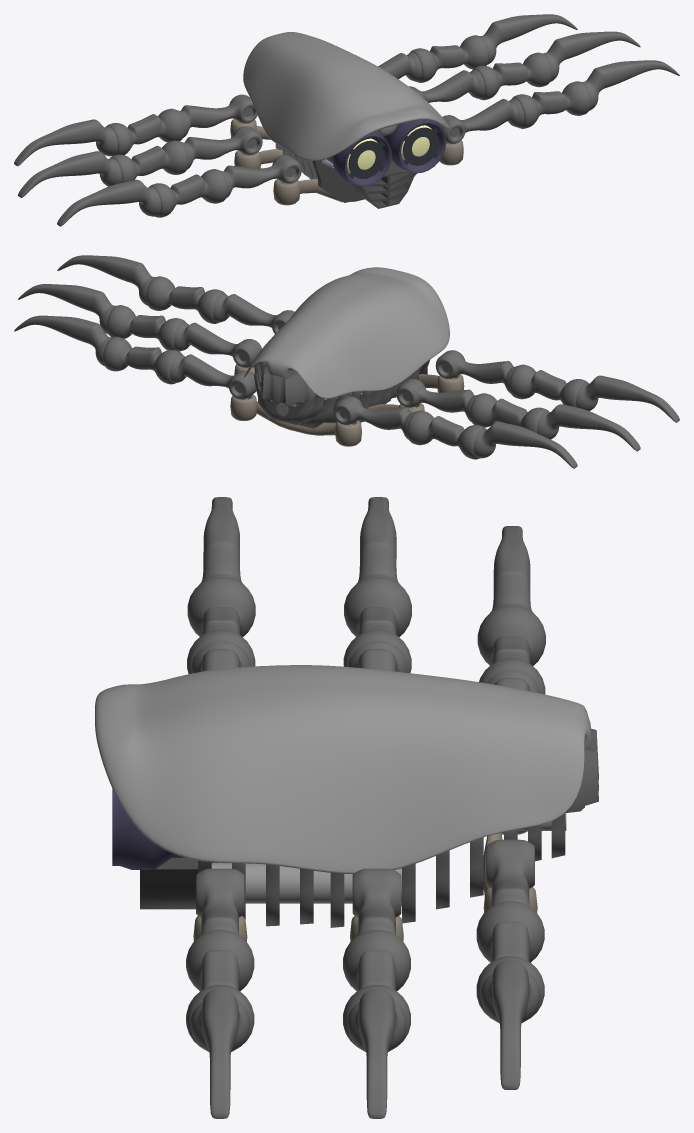
The model's file is aranha_material_2.glb.
The picture shows the model from 3 angles, top to bottom: view 1: azimuth 30°, elevation 25°; view 2: azimuth 150°, elevation 25°; view 3: azimuth 270°, elevation 25°; orthographic projection. The views are drawn at different scales.
Visible parts, largest first — view 1: Arainha_Pernas_v002_div:Layer1, Arainha_Pernas_v002_div:Layer3_(4), Arainha_Pernas_v002_div:Layer3_(1), Arainha_Pernas_v002_div:Layer3_(2), Arainha_Pernas_v002_div:Layer4_(6), Arainha_Pernas_v002_div:Layer4_(4), Arainha_Pernas_v002_div:Layer3_(3), Arainha_Pernas_v002_div:Layer3_(6), Arainha_Pernas_v002_div:Layer4_(5), Arainha_Pernas_v002_div:Layer3_(5), Arainha_Pernas_v002_div:Layer2_(1), Arainha_Pernas_v002_div:Layer2_(4) (+7 smaller); view 2: Arainha_Pernas_v002_div:Layer1, Arainha_Pernas_v002_div:Layer3_(1), Arainha_Pernas_v002_div:Layer3_(3), Arainha_Pernas_v002_div:Layer3_(6), Arainha_Pernas_v002_div:Layer2_(3), Arainha_Pernas_v002_div:Layer4_(6), Arainha_Pernas_v002_div:Layer2_(2), Arainha_Pernas_v002_div:Layer3_(2), Arainha_Pernas_v002_div:Layer4_(4), Arainha_Pernas_v002_div:Layer4_(5), Arainha_Pernas_v002_div:Layer3_(4), Arainha_Pernas_v002_div:Layer3_(5) (+7 smaller); view 3: Arainha_Pernas_v002_div:Layer1, Arainha_Pernas_v002_div:Layer4_(2), Arainha_Pernas_v002_div:Layer4_(3), Arainha_Pernas_v002_div:Layer4_(1), Arainha_Pernas_v002_div:Layer3_(4), Arainha_Pernas_v002_div:Layer3_(5), Arainha_Pernas_v002_div:Layer3_(3), Arainha_Pernas_v002_div:Layer3_(1), Arainha_Pernas_v002_div:Layer3_(2), Arainha_Pernas_v002_div:Layer3_(6), Arainha_Pernas_v002_div:Layer2_(2), Arainha_Pernas_v002_div:Layer2_(3) (+6 smaller).
Part boxes in pixels (x1,y1,x2,y2): Arainha_Pernas_v002_div:Layer1: (230,32,463,208); Arainha_Pernas_v002_div:Layer3_(4): (149,169,227,217); Arainha_Pernas_v002_div:Layer3_(1): (511,81,590,128); Arainha_Pernas_v002_div:Layer3_(2): (472,52,551,100); Arainha_Pernas_v002_div:Layer4_(6): (14,119,117,166); Arainha_Pernas_v002_div:Layer4_(4): (57,179,160,226); Arainha_Pernas_v002_div:Layer3_(3): (409,35,488,82); Arainha_Pernas_v002_div:Layer3_(6): (106,108,184,156); Arainha_Pernas_v002_div:Layer4_(5): (18,151,121,197); Arainha_Pernas_v002_div:Layer3_(5): (110,140,188,182); Arainha_Pernas_v002_div:Layer2_(1): (437,98,524,143); Arainha_Pernas_v002_div:Layer2_(4): (219,155,301,198); Arainha_Pernas_v002_div:Layer1: (230,267,464,446); Arainha_Pernas_v002_div:Layer3_(1): (146,276,225,323); Arainha_Pernas_v002_div:Layer3_(3): (103,336,182,384); Arainha_Pernas_v002_div:Layer3_(6): (407,410,485,459); Arainha_Pernas_v002_div:Layer2_(3): (169,353,256,399); Arainha_Pernas_v002_div:Layer4_(6): (473,421,577,468); Arainha_Pernas_v002_div:Layer2_(2): (173,322,261,367); Arainha_Pernas_v002_div:Layer3_(2): (107,305,186,350); Arainha_Pernas_v002_div:Layer4_(4): (576,375,679,422); Arainha_Pernas_v002_div:Layer4_(5): (537,404,640,451); Arainha_Pernas_v002_div:Layer3_(4): (509,364,587,407); Arainha_Pernas_v002_div:Layer3_(5): (470,393,548,432); Arainha_Pernas_v002_div:Layer1: (95,665,598,941); Arainha_Pernas_v002_div:Layer4_(2): (347,989,406,1118); Arainha_Pernas_v002_div:Layer4_(3): (480,960,540,1089); Arainha_Pernas_v002_div:Layer4_(1): (190,989,249,1118); Arainha_Pernas_v002_div:Layer3_(4): (187,577,255,673); Arainha_Pernas_v002_div:Layer3_(5): (343,577,411,673); Arainha_Pernas_v002_div:Layer3_(3): (476,901,544,1018); Arainha_Pernas_v002_div:Layer3_(1): (186,930,254,1047); Arainha_Pernas_v002_div:Layer3_(2): (343,930,410,1047); Arainha_Pernas_v002_div:Layer3_(6): (477,605,545,694); Arainha_Pernas_v002_div:Layer2_(2): (352,868,401,934); Arainha_Pernas_v002_div:Layer2_(3): (486,839,534,906).
Bounding box in the file's own units: 21.03 × 3.74 × 7.41.
